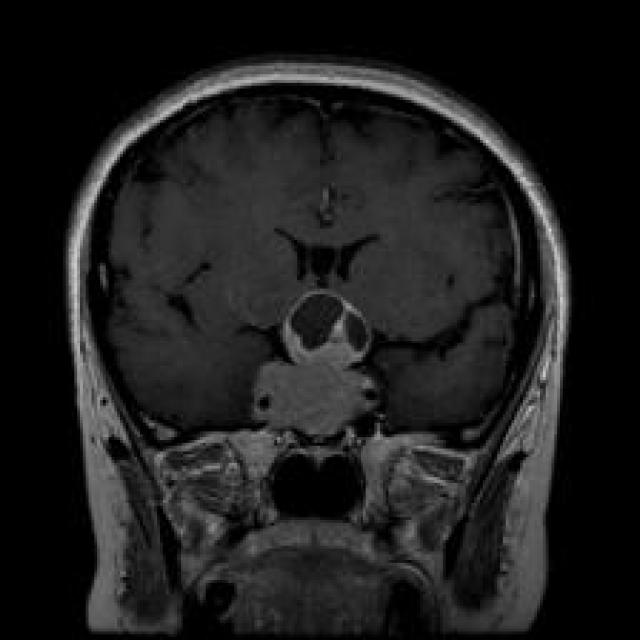pituitary_tumor: (275, 276, 379, 379)
